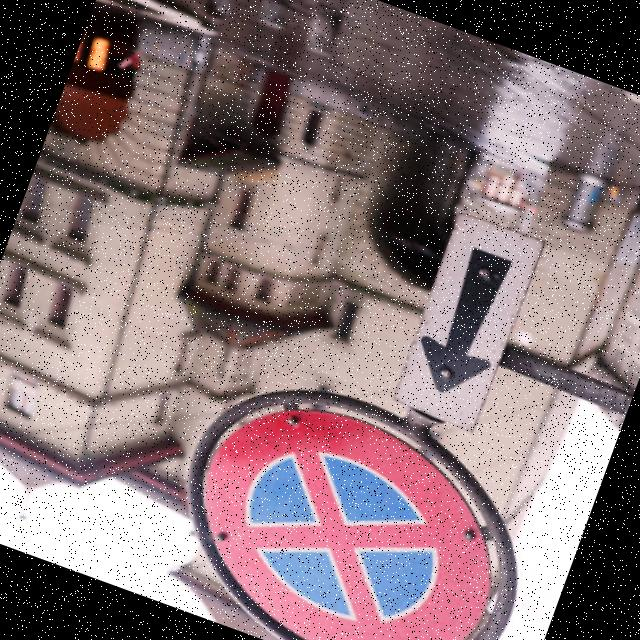no_parking: (138, 357, 532, 640)
